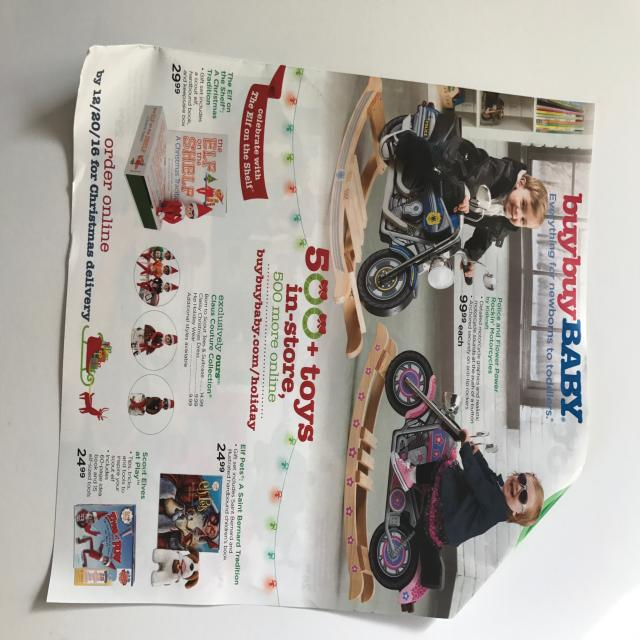Paper: (31, 23, 617, 640)
